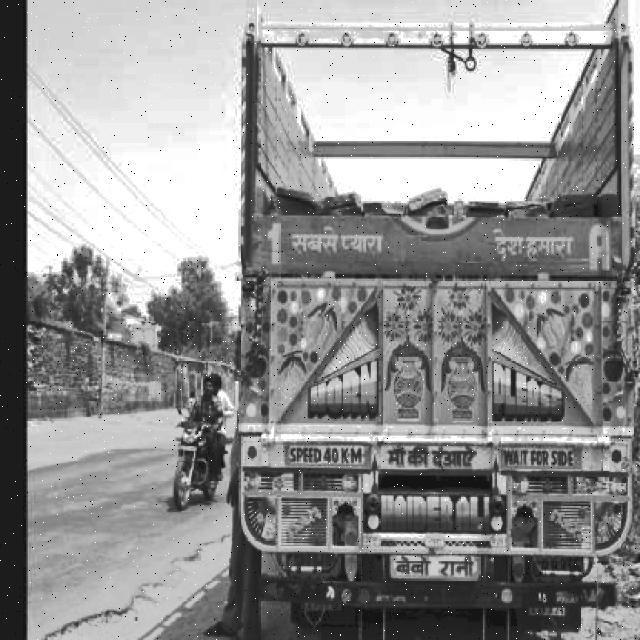HCV: (226, 43, 625, 640)
